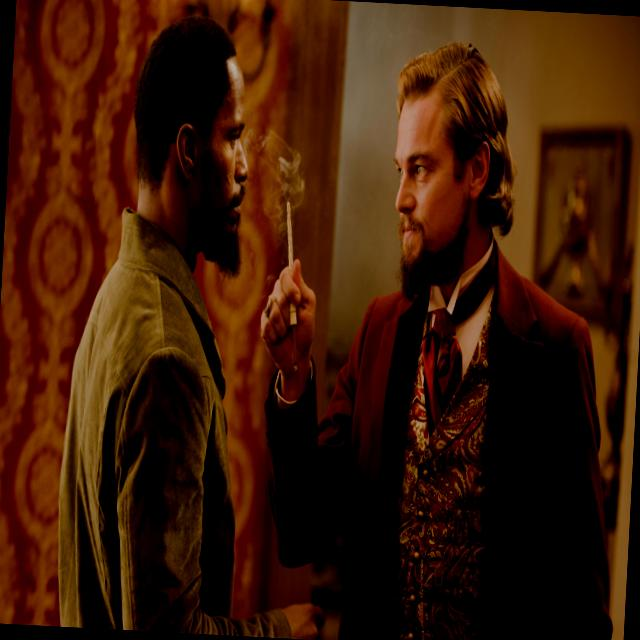cigarette: (266, 182, 321, 347)
